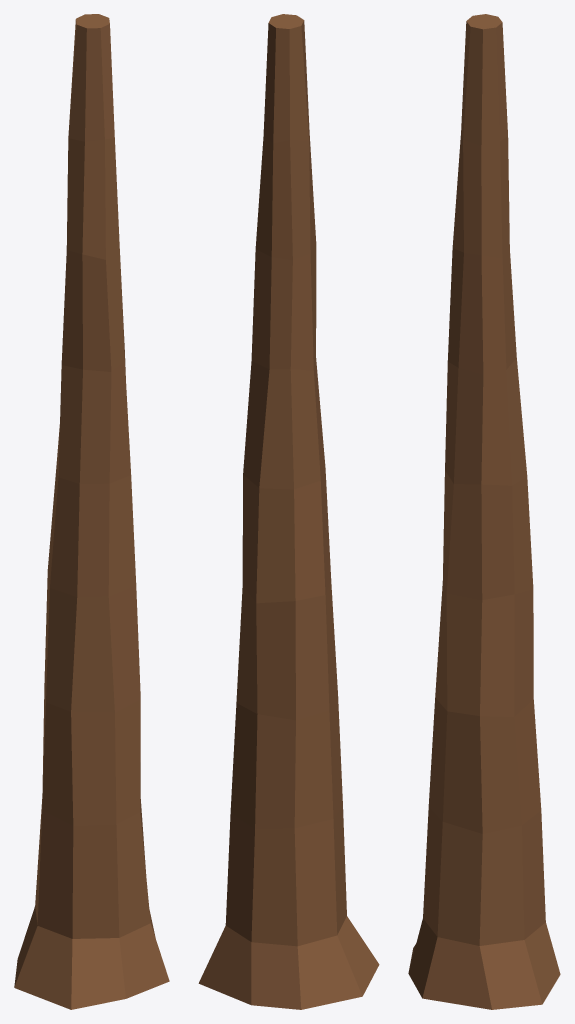
Rendered from Tronco1.glb.
The picture shows the model from 3 angles, left to right: view 1: azimuth 30°, elevation 25°; view 2: azimuth 150°, elevation 25°; view 3: azimuth 270°, elevation 25°; orthographic projection.
Visible parts, largest first — view 1: Tronco1.003; view 2: Tronco1.003; view 3: Tronco1.003.
Part boxes in pixels (left/top/right/bottom): Tronco1.003: left=14, top=14, right=169, bottom=1009; Tronco1.003: left=198, top=14, right=379, bottom=1009; Tronco1.003: left=408, top=14, right=560, bottom=1009.
Size of the model in its own units: 0.1931 by 1.2 by 0.1728.
